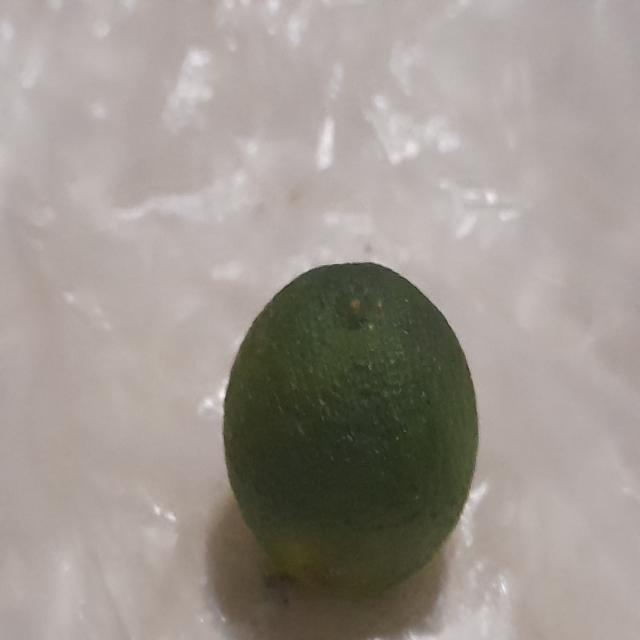heathy: (216, 250, 494, 602)
